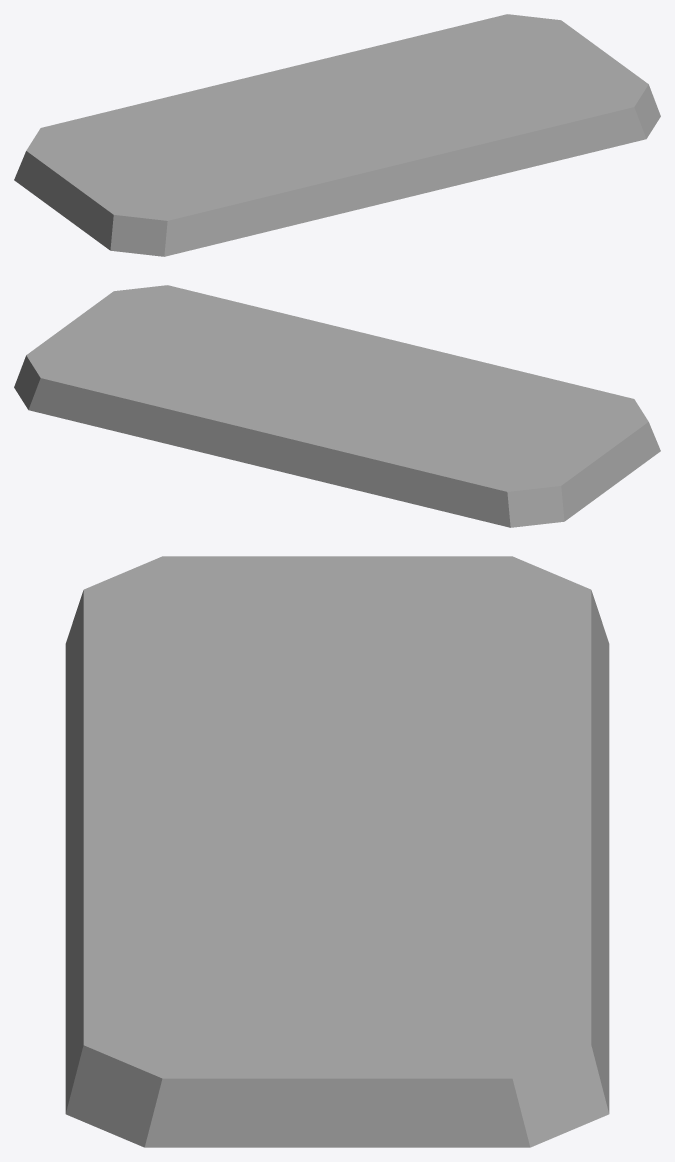
The model's file is Rock_Tile_m_17.fbx.
3 renders of one model, top to bottom at view 1: azimuth 30°, elevation 25°; view 2: azimuth 150°, elevation 25°; view 3: azimuth 270°, elevation 25°, orthographic. The views are drawn at different scales.
Visible parts, largest first — view 1: Rock_Tile_m_17; view 2: Rock_Tile_m_17; view 3: Rock_Tile_m_17.
Part boxes in pixels (x1,y1,x2,y2): Rock_Tile_m_17: (14, 14, 660, 256); Rock_Tile_m_17: (14, 285, 660, 527); Rock_Tile_m_17: (65, 556, 609, 1147).
Bounding box in the file's own units: 93.56 × 5 × 40.
